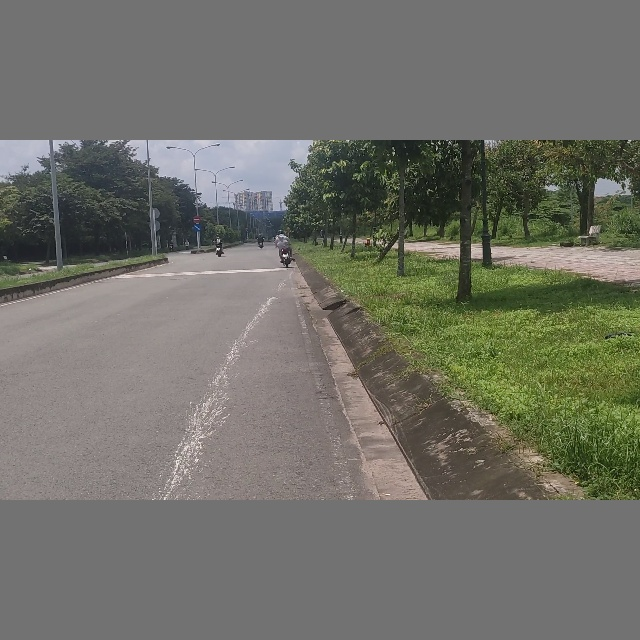P.102: (193, 216, 201, 223)
R.302a: (193, 224, 201, 232)
